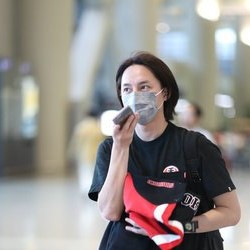mask: (117, 66, 166, 131)
